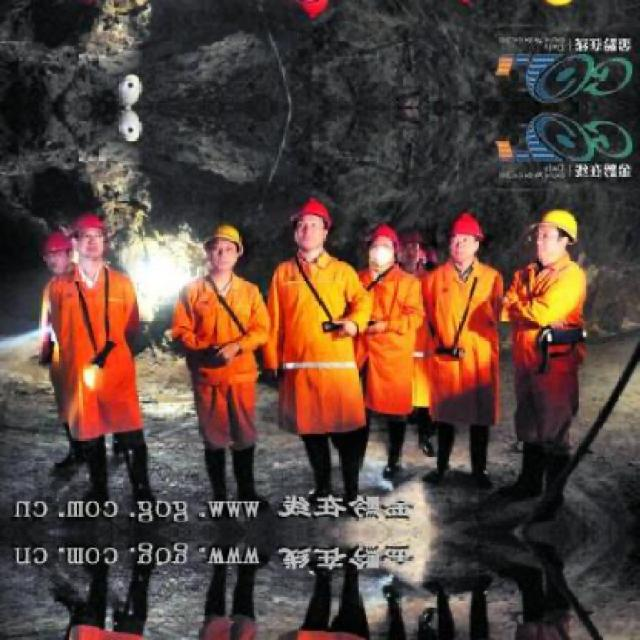helmet: (531, 202, 583, 264), (291, 191, 332, 257), (205, 216, 248, 276), (449, 206, 483, 265), (74, 206, 111, 260), (369, 218, 403, 276), (43, 228, 77, 270), (390, 229, 424, 269), (291, 0, 334, 23), (529, 0, 583, 12)
